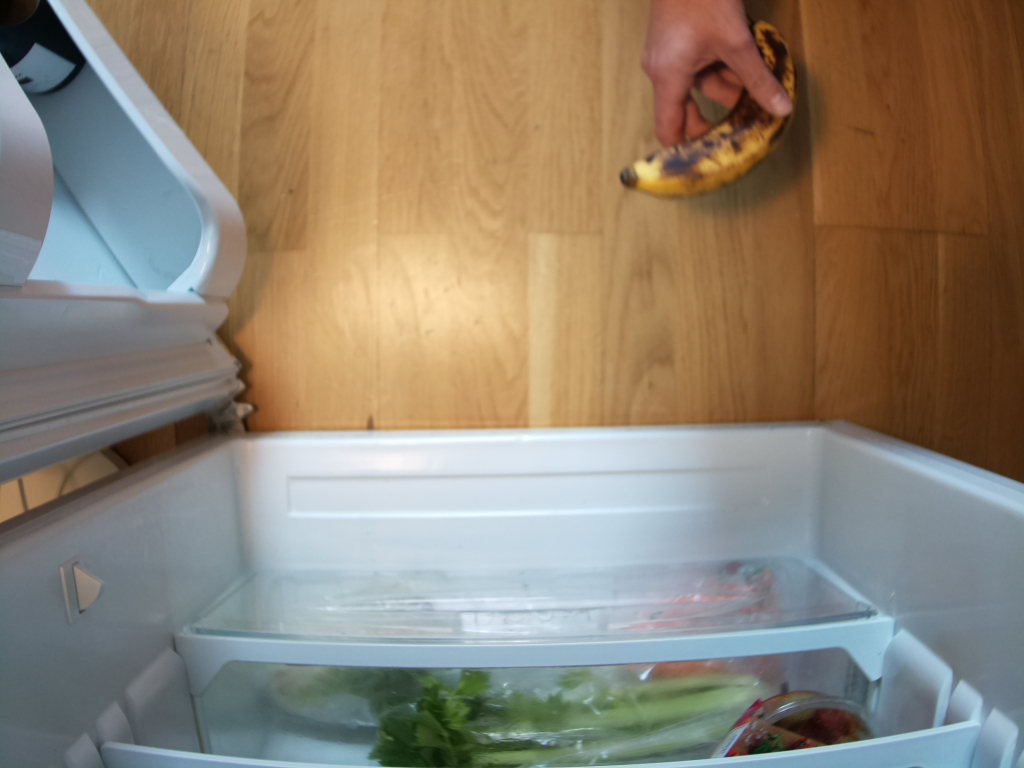banana-overripe: (622, 19, 796, 198)
